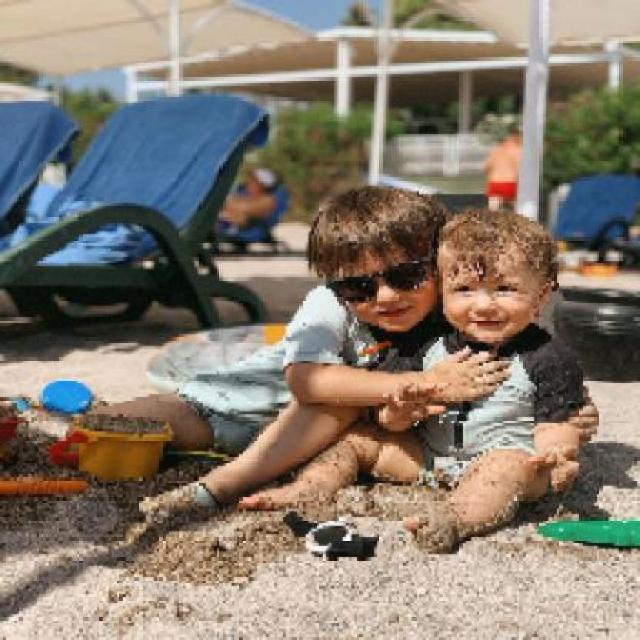child: (67, 185, 513, 524), (238, 206, 591, 554)
